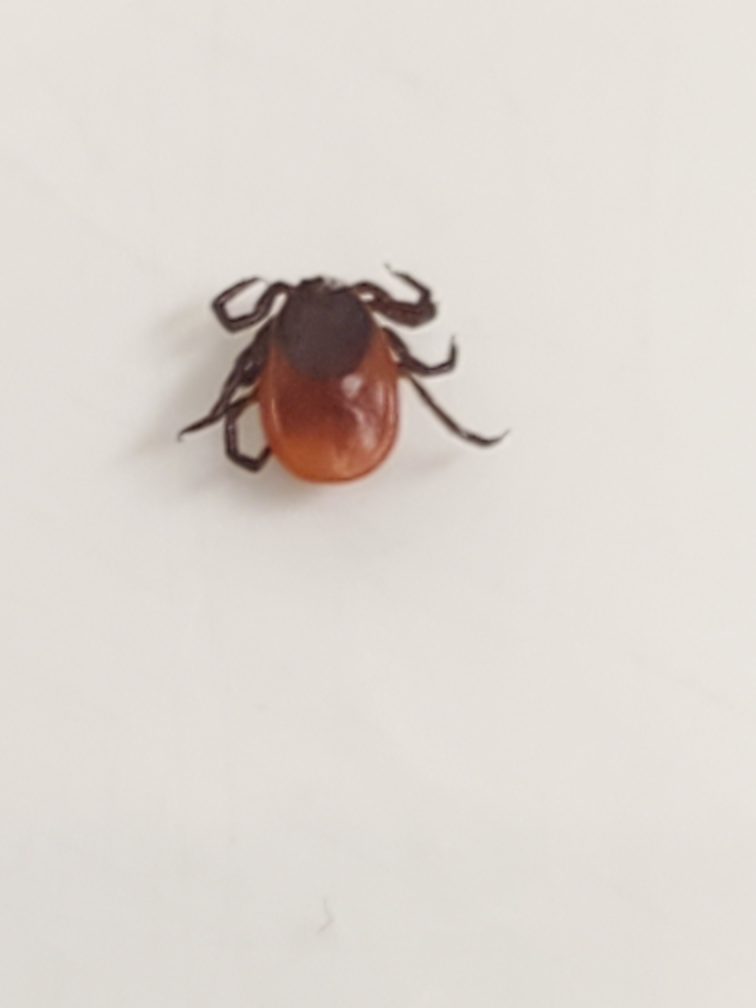unlabelled_tick: (161, 245, 521, 499)
